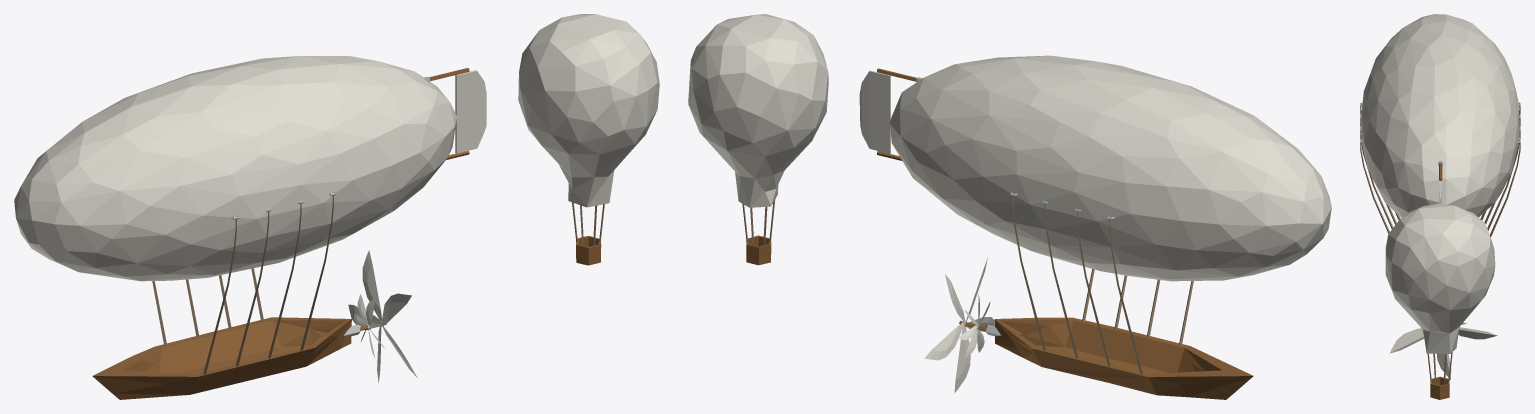
File: Vehicles.fbx
3 renders of one model, left to right at view 1: azimuth 30°, elevation 25°; view 2: azimuth 150°, elevation 25°; view 3: azimuth 270°, elevation 25°, orthographic. The views are drawn at different scales.
Parts seen in each view (by area): view 1: Airship, Hot_Air_Balloon, Engine, Rudder; view 2: Airship, Hot_Air_Balloon, Engine, Rudder; view 3: Airship, Hot_Air_Balloon, Engine.
Part boxes in pixels (bbox=[...]): Airship: bbox=[14, 56, 469, 399]; Hot_Air_Balloon: bbox=[518, 14, 659, 265]; Engine: bbox=[348, 250, 417, 382]; Rudder: bbox=[455, 70, 486, 153]; Airship: bbox=[877, 55, 1331, 399]; Hot_Air_Balloon: bbox=[688, 14, 828, 265]; Engine: bbox=[924, 258, 994, 392]; Rudder: bbox=[859, 70, 890, 153]; Airship: bbox=[1360, 14, 1520, 237]; Hot_Air_Balloon: bbox=[1385, 203, 1495, 399]; Engine: bbox=[1389, 322, 1497, 379].
Bounding box in the file's own units: 2542 × 1347 × 721.
